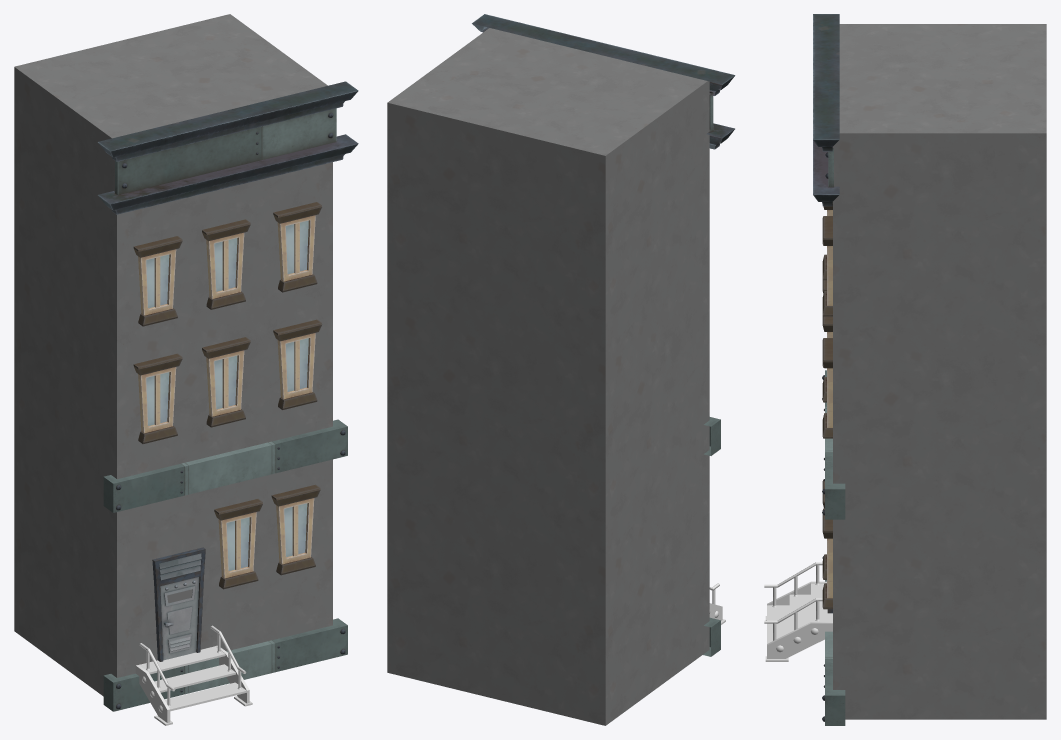
File: Ev_Alleybuilding_6.fbx
3 views of the same model, side by side, from view 1: azimuth 30°, elevation 25°; view 2: azimuth 150°, elevation 25°; view 3: azimuth 270°, elevation 25° (orthographic). The views are drawn at different scales.
Visible parts, largest first — view 1: Object077, Box900, P_FrMetal_2, P_FrMetal_003, P_FrMetal_1, P_Door_010, stair8, P_Window_199, P_Window_196, P_Window_197, P_Window_203, P_Window_198 (+3 smaller); view 2: Object077, Box900, P_FrMetal_2; view 3: Object077, Box900, P_FrMetal_2, stair8, P_FrMetal_1, P_FrMetal_003, P_Window_200, P_Window_203, P_Window_197, banister13.
Part boxes in pixels (x1,y1,x2,y2): Object077: (14,14,332,481); Box900: (14,417,332,696); P_FrMetal_2: (98,81,358,214); P_FrMetal_003: (103,419,347,512); P_FrMetal_1: (103,618,347,711); P_Door_010: (152,547,205,661); stair8: (135,645,252,725); P_Window_199: (202,337,250,427); P_Window_196: (214,498,262,589); P_Window_197: (271,484,320,575); P_Window_203: (273,202,321,292); P_Window_198: (133,353,182,443); Object077: (387,28,709,509); Box900: (387,433,709,725); P_FrMetal_2: (472,14,735,149); Object077: (833,24,1046,496); Box900: (833,496,1046,719); P_FrMetal_2: (813,14,839,206); stair8: (765,581,832,661); P_FrMetal_1: (822,580,845,725); P_FrMetal_003: (822,370,845,519); P_Window_200: (822,338,832,438); P_Window_203: (822,216,832,316); P_Window_197: (822,508,832,609); banister13: (764,562,822,607).
Size of the model in its own units: 33.88 by 73.85 by 32.09.
